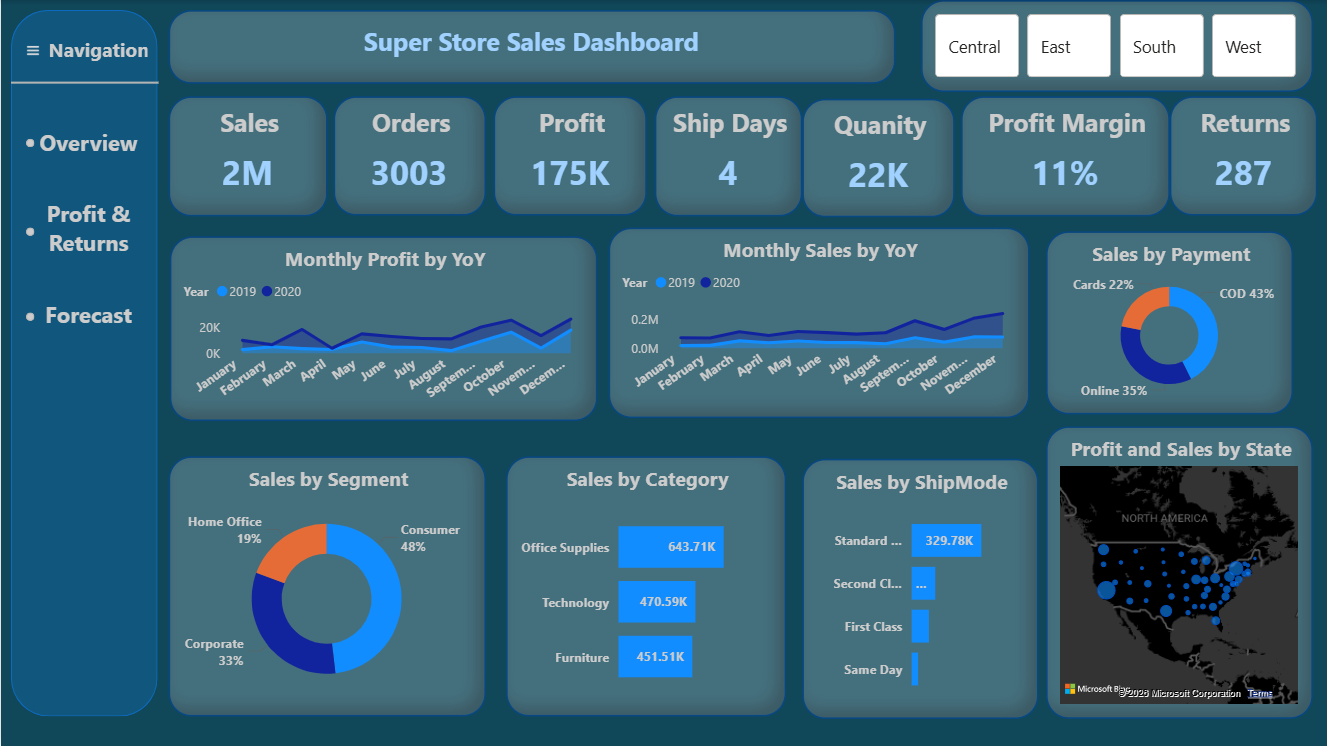

The dashboard page shown, as its layout file describes it:
{"tool":"powerbi","page":{"name":"Overview","canvas":[1280,720],"ordinal":0},"visuals":[{"type":"barChart","title":" Sales by Category","fields":{"Category":["SuperStore_Sales_Dataset.Category"],"Y":["Sum(SuperStore_Sales_Dataset.Sales)"]},"box":[487.1,440.5,270.3,251.1],"z":0},{"type":"barChart","title":" Sales by ShipMode","fields":{"Category":["SuperStore_Sales_Dataset.Ship Mode"],"Y":["Sum(SuperStore_Sales_Dataset.Sales)"]},"box":[773.9,443.2,227.8,251.1],"z":1000},{"type":"stackedAreaChart","title":" Monthly Sales by YoY","fields":{"Y":["Sum(SuperStore_Sales_Dataset.Sales)"],"Series":["SuperStore_Sales_Dataset.Order Date.Variation.Date Hierarchy.Year"],"Category":["SuperStore_Sales_Dataset.Order Date.Variation.Date Hierarchy.Month"]},"box":[585.9,219.6,406.2,183.9],"z":2000},{"type":"stackedAreaChart","title":" Monthly Profit by YoY","fields":{"Y":["Sum(SuperStore_Sales_Dataset.Profit)"],"Series":["SuperStore_Sales_Dataset.Order Date.Variation.Date Hierarchy.Year"],"Category":["SuperStore_Sales_Dataset.Order Date.Variation.Date Hierarchy.Month"]},"box":[163.3,227.8,413,178.4],"z":3000},{"type":"map","title":"Profit and Sales by State","fields":{"Category":["SuperStore_Sales_Dataset.State"],"Size":["Sum(SuperStore_Sales_Dataset.Sales)"]},"box":[1008.6,411.7,258,282.7],"z":4000},{"type":"donutChart","title":"Sales by Segment","fields":{"Category":["SuperStore_Sales_Dataset.Segment"],"Y":["Sum(SuperStore_Sales_Dataset.Sales)"]},"box":[161.9,440.5,306,251.1],"z":5000},{"type":"advancedSlicerVisual","fields":{"Values":["SuperStore_Sales_Dataset.Region"]},"box":[887.8,0,378.7,89.2],"z":6000},{"type":"textbox","box":[161.9,9.6,701.2,71.4],"z":7000},{"type":"card","title":"Sales","fields":{"Values":["Sum(SuperStore_Sales_Dataset.Sales)"]},"box":[161.7,92.9,153.2,115.8],"z":8000},{"type":"card","title":"Profit","fields":{"Values":["Sum(SuperStore_Sales_Dataset.Profit)"]},"box":[474.8,93.3,148.2,115.3],"z":9000},{"type":"card","title":"Order","fields":{"Values":["Count(SuperStore_Sales_Dataset.Order ID)"]},"box":[321.1,93.3,146.8,115.3],"z":10000},{"type":"card","title":"Ship Days","fields":{"Values":["Avg(SuperStore_Sales_Dataset.AvgDeliveryDate)"]},"box":[631,92.9,142.4,115.8],"z":11000},{"type":"card","title":"Profit Margin","fields":{"Values":["SuperStore_Sales_Dataset.Profit Margin"]},"box":[926.5,92.9,201.5,115.8],"z":12000},{"type":"shape","box":[9.6,9.6,141.3,682],"z":13000},{"type":"shape","box":[9.6,74.1,142.7,12.3],"z":14000},{"type":"shape","box":[24.7,104.3,120.8,67.2],"z":15000},{"type":"shape","box":[24.7,134.5,8.2,8.2],"z":16000},{"type":"shape","box":[24.7,269,120.8,67.2],"z":17000},{"type":"shape","box":[24.7,185.2,120.8,67.2],"z":18000},{"type":"shape","box":[24.7,219.6,8.2,8.2],"z":19000},{"type":"shape","box":[24.7,301.9,8.2,8.2],"z":20000},{"type":"shape","box":[46.7,13.7,94.7,67.2],"z":21000},{"type":"image","box":[0,31.6,61.7,34.3],"z":22000},{"type":"donutChart","title":"Sales by Payment","fields":{"Category":["SuperStore_Sales_Dataset.Payment Mode"],"Y":["Sum(SuperStore_Sales_Dataset.Sales)"]},"box":[1008.6,223.7,238.8,177],"z":23000},{"type":"card","title":"Quanity","fields":{"Values":["Sum(SuperStore_Sales_Dataset.Quantity)"]},"box":[773.3,95.3,147.2,114.6],"z":27000}]}

Visuals, with their boxes in screenshot pixels (x1, y1, x2, y2), scaled from the page's 1280x720 canvas onto the 1327x746 screenshot:
" Sales by Category" barChart: box(505, 456, 785, 717)
" Sales by ShipMode" barChart: box(802, 459, 1038, 719)
" Monthly Sales by YoY" stackedAreaChart: box(607, 228, 1029, 418)
" Monthly Profit by YoY" stackedAreaChart: box(169, 236, 597, 421)
"Profit and Sales by State" map: box(1046, 427, 1313, 719)
"Sales by Segment" donutChart: box(168, 456, 485, 717)
advancedSlicerVisual - SuperStore_Sales_Dataset.Region: box(920, 0, 1313, 92)
textbox: box(168, 10, 895, 84)
"Sales" card: box(168, 96, 326, 216)
"Profit" card: box(492, 97, 646, 216)
"Order" card: box(333, 97, 485, 216)
"Ship Days" card: box(654, 96, 802, 216)
"Profit Margin" card: box(961, 96, 1169, 216)
shape: box(10, 10, 156, 717)
shape: box(10, 77, 158, 90)
shape: box(26, 108, 151, 178)
shape: box(26, 139, 34, 148)
shape: box(26, 279, 151, 348)
shape: box(26, 192, 151, 262)
shape: box(26, 228, 34, 236)
shape: box(26, 313, 34, 321)
shape: box(48, 14, 147, 84)
image: box(0, 33, 64, 68)
"Sales by Payment" donutChart: box(1046, 232, 1293, 415)
"Quanity" card: box(802, 99, 954, 217)
